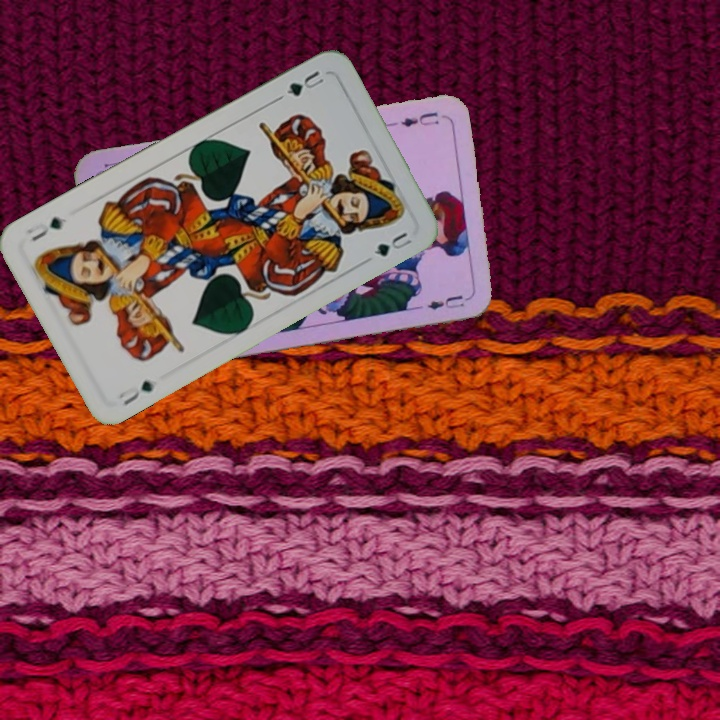EU: (397, 108, 442, 130)
GU: (282, 66, 327, 99), (114, 376, 158, 408)
